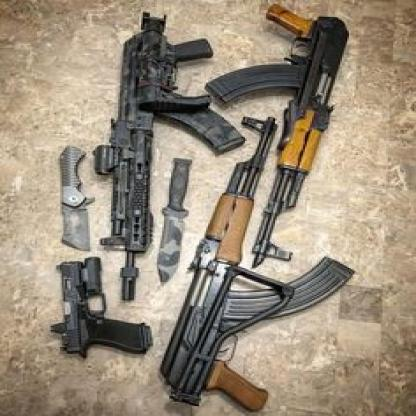Gun: (157, 114, 357, 414), (92, 11, 246, 302), (204, 1, 352, 268)
Knife: (155, 156, 193, 286), (57, 143, 98, 253)
Pistol: (50, 254, 154, 360)
